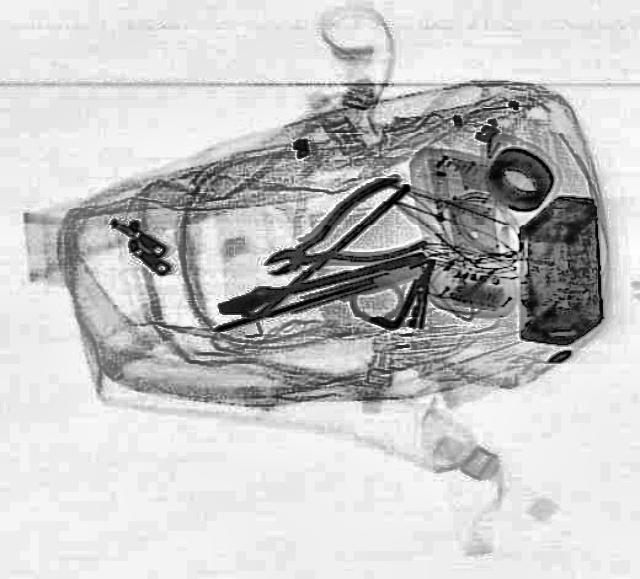Pliers: (243, 171, 435, 303)
